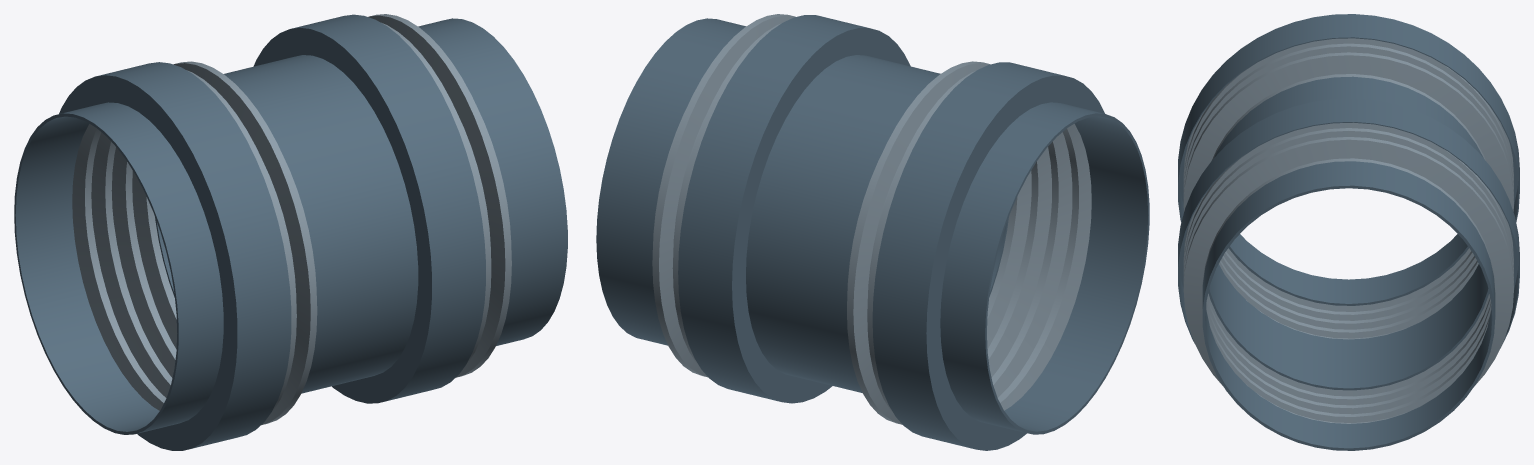
Rendered from 2silf-dn1400-L1938-D1420-k-o1620.glb.
3 views of the same model, side by side, from view 1: azimuth 30°, elevation 25°; view 2: azimuth 150°, elevation 25°; view 3: azimuth 270°, elevation 25° (orthographic). The views are drawn at different scales.
Parts seen in each view (by area): view 1: patrubok_1, osnovanie_kozhuh_1, osnovanie_kozhuh_2, prokladka_silfon_1, patrubok_2, patrubok_4, patrubok_3, prokladka_silfon_2; view 2: patrubok_1, osnovanie_kozhuh_2, osnovanie_kozhuh_1, prokladka_silfon_1, patrubok_2, patrubok_4, patrubok_3, prokladka_silfon_2; view 3: prokladka_silfon_2, prokladka_silfon_1, patrubok_4, patrubok_2, osnovanie_kozhuh_2, osnovanie_kozhuh_1, patrubok_3, patrubok_1.
Boxes of the visible parts, x1=… form: patrubok_1: x1=14, y1=102, x2=223, y2=434; osnovanie_kozhuh_1: x1=59, y1=62, x2=291, y2=450; osnovanie_kozhuh_2: x1=253, y1=14, x2=485, y2=403; prokladka_silfon_1: x1=72, y1=61, x2=317, y2=425; patrubok_2: x1=155, y1=66, x2=373, y2=393; patrubok_4: x1=418, y1=18, x2=567, y2=345; patrubok_3: x1=253, y1=55, x2=418, y2=386; prokladka_silfon_2: x1=368, y1=14, x2=511, y2=377; patrubok_1: x1=940, y1=102, x2=1149, y2=434; osnovanie_kozhuh_2: x1=678, y1=15, x2=910, y2=403; osnovanie_kozhuh_1: x1=872, y1=62, x2=1104, y2=450; prokladka_silfon_1: x1=847, y1=61, x2=1091, y2=424; patrubok_2: x1=790, y1=66, x2=1008, y2=392; patrubok_4: x1=596, y1=18, x2=745, y2=345; patrubok_3: x1=746, y1=55, x2=910, y2=384; prokladka_silfon_2: x1=652, y1=14, x2=795, y2=377; prokladka_silfon_2: x1=1183, y1=122, x2=1513, y2=423; prokladka_silfon_1: x1=1183, y1=38, x2=1513, y2=339; patrubok_4: x1=1202, y1=161, x2=1495, y2=450; patrubok_2: x1=1213, y1=76, x2=1483, y2=363; osnovanie_kozhuh_2: x1=1178, y1=98, x2=1519, y2=343; osnovanie_kozhuh_1: x1=1178, y1=14, x2=1519, y2=221; patrubok_3: x1=1208, y1=276, x2=1489, y2=390; patrubok_1: x1=1228, y1=234, x2=1468, y2=305.
Bounding box in the file's own units: 1938 × 1658 × 1658.
